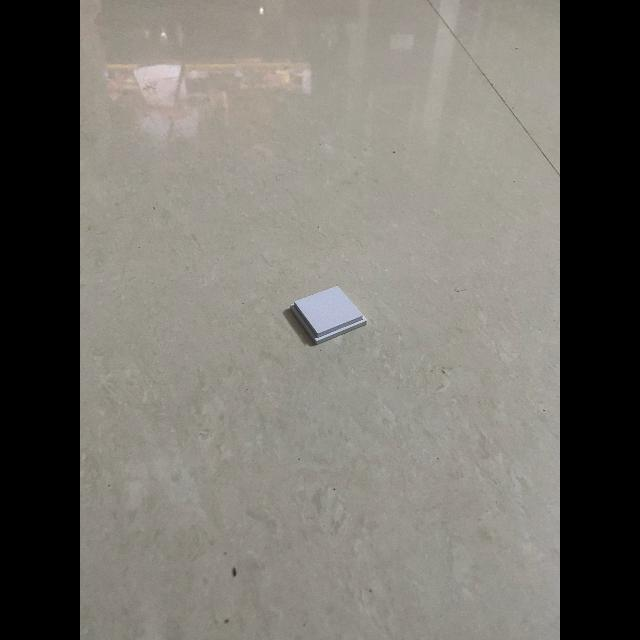RASPBERY PI CAM ENCLOSURE: (290, 286, 368, 344)
